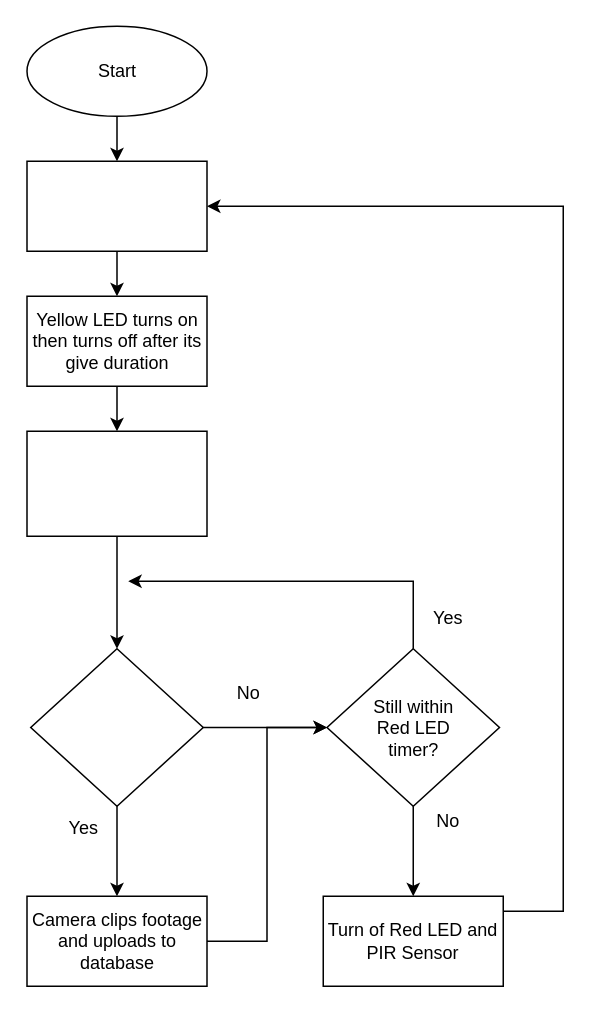
Image size: 602x1013. Some labels were removed from this diagram. Here are the shapes that lost their labels. From the top down, the box of each, then its label:
(26, 160, 207, 251): Green LED turns on then turns off after its give duration
(26, 430, 207, 536): Red LED turns on and begins its timer. PIR Sensor is also turned on
(29, 647, 203, 806): Is movement detected?
